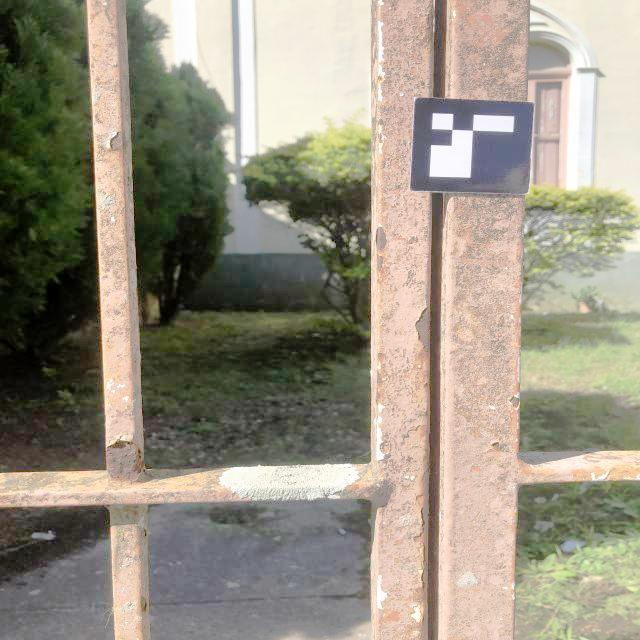Corrosion: (414, 428, 430, 588), (106, 440, 143, 483), (415, 308, 430, 352), (420, 589, 428, 636), (110, 132, 127, 149), (376, 226, 387, 251), (583, 455, 609, 464), (376, 254, 384, 273), (140, 597, 148, 613), (510, 397, 519, 408), (490, 442, 501, 450), (347, 485, 360, 490), (377, 133, 382, 142), (379, 119, 383, 125), (378, 75, 382, 81), (376, 279, 380, 283)
